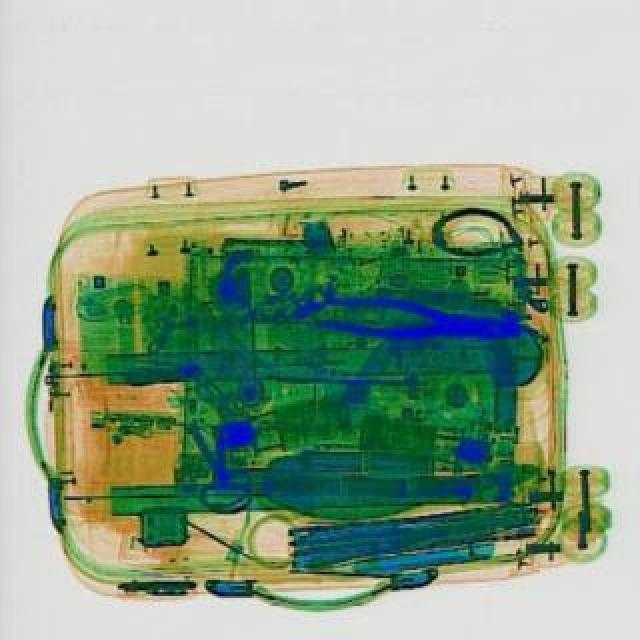wrench: (316, 290, 518, 348)
